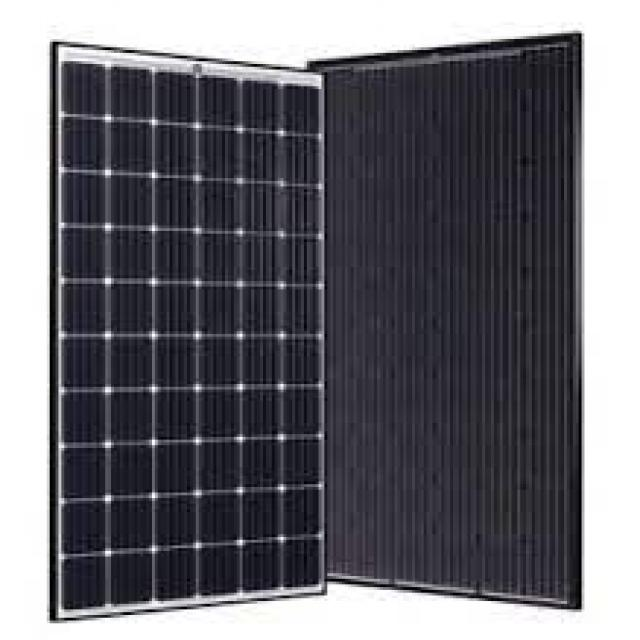no faulty: (60, 49, 330, 637), (328, 51, 595, 604)
